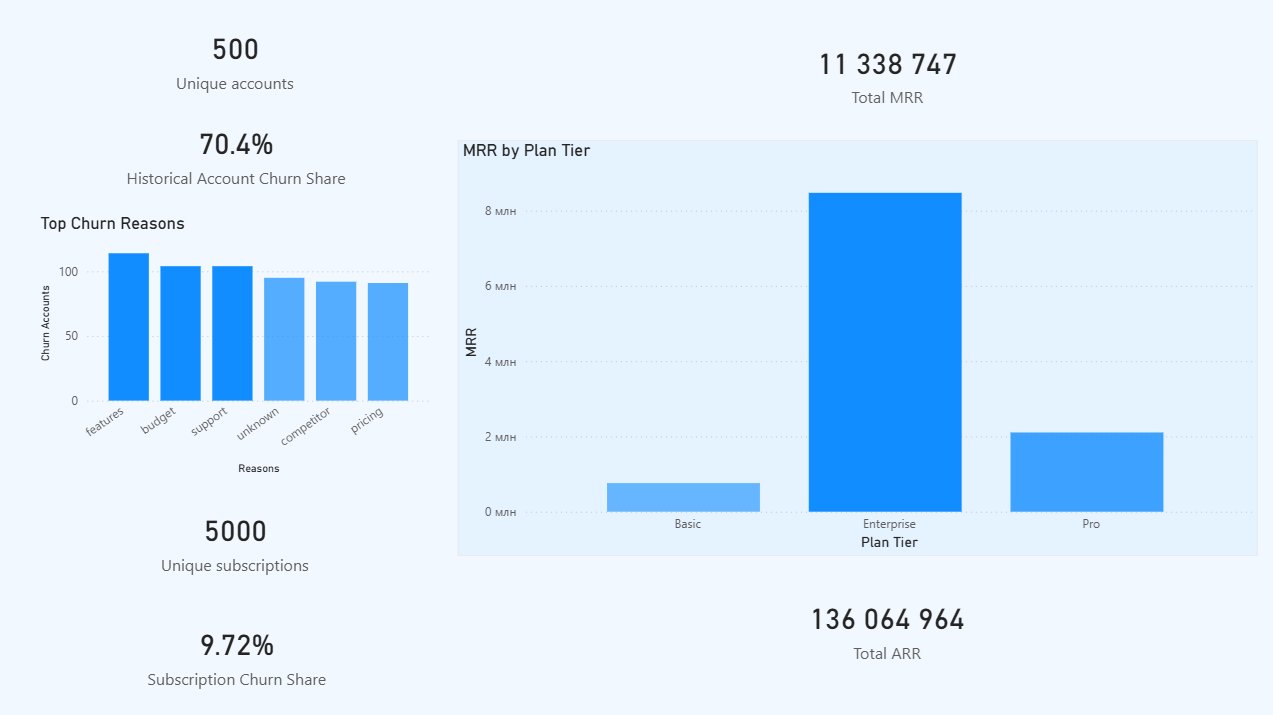

Layout of this report page (visuals, bound fields, positions):
{"tool":"powerbi","page":{"name":"Страница 1","canvas":[1280,720],"ordinal":0},"visuals":[{"type":"card","fields":{"Values":["Sum(_select_count_distinct_a_account_id_count_distinct_ce_account_id_202603301826.all)"]},"box":[142.9,17.1,187.1,81.4],"z":0},{"type":"lineClusteredColumnComboChart","title":"Top Churn Reasons","fields":{"Y":["Sum(top_reasons.count)"],"Category":["top_reasons.reason_code"]},"box":[35.7,212.9,400,267.1],"z":1000},{"type":"card","fields":{"Values":["Sum(money.month)"]},"box":[775.7,32.9,224.3,80],"z":2000},{"type":"card","fields":{"Values":["Sum(money.year)"]},"box":[792.9,587.1,191.4,81.4],"z":3000},{"type":"columnChart","title":"MRR by Plan Tier","fields":{"Y":["Sum(plan_tier.sum)"],"Category":["plan_tier.plan_tier"]},"box":[458.6,140,800,415.7],"z":4000},{"type":"card","fields":{"Values":["Sum(subs_percent-1774989508202.count)"]},"box":[142.9,494.3,187.1,92.9],"z":5000},{"type":"card","fields":{"Values":["Min(churn percent ever-1775027798861.Column1)"]},"box":[114.3,112.9,247.1,81.4],"z":6000},{"type":"card","fields":{"Values":["Min(churn percent subs.Column1)"]},"box":[128.6,607.1,218.6,92.9],"z":7000}]}

Visuals, with their boxes in screenshot pixels (x1, y1, x2, y2), scaled from the page's 1280x720 canvas onto the 1273x715 screenshot:
card - Sum(_select_count_distinct_a_account_id_count_distinct_ce_account_id_202603301826.all): <region>142, 17, 328, 98</region>
"Top Churn Reasons" lineClusteredColumnComboChart: <region>36, 211, 433, 477</region>
card - Sum(money.month): <region>771, 33, 995, 112</region>
card - Sum(money.year): <region>789, 583, 979, 664</region>
"MRR by Plan Tier" columnChart: <region>456, 139, 1252, 552</region>
card - Sum(subs_percent-1774989508202.count): <region>142, 491, 328, 583</region>
card - Min(churn percent ever-1775027798861.Column1): <region>114, 112, 359, 193</region>
card - Min(churn percent subs.Column1): <region>128, 603, 345, 695</region>
